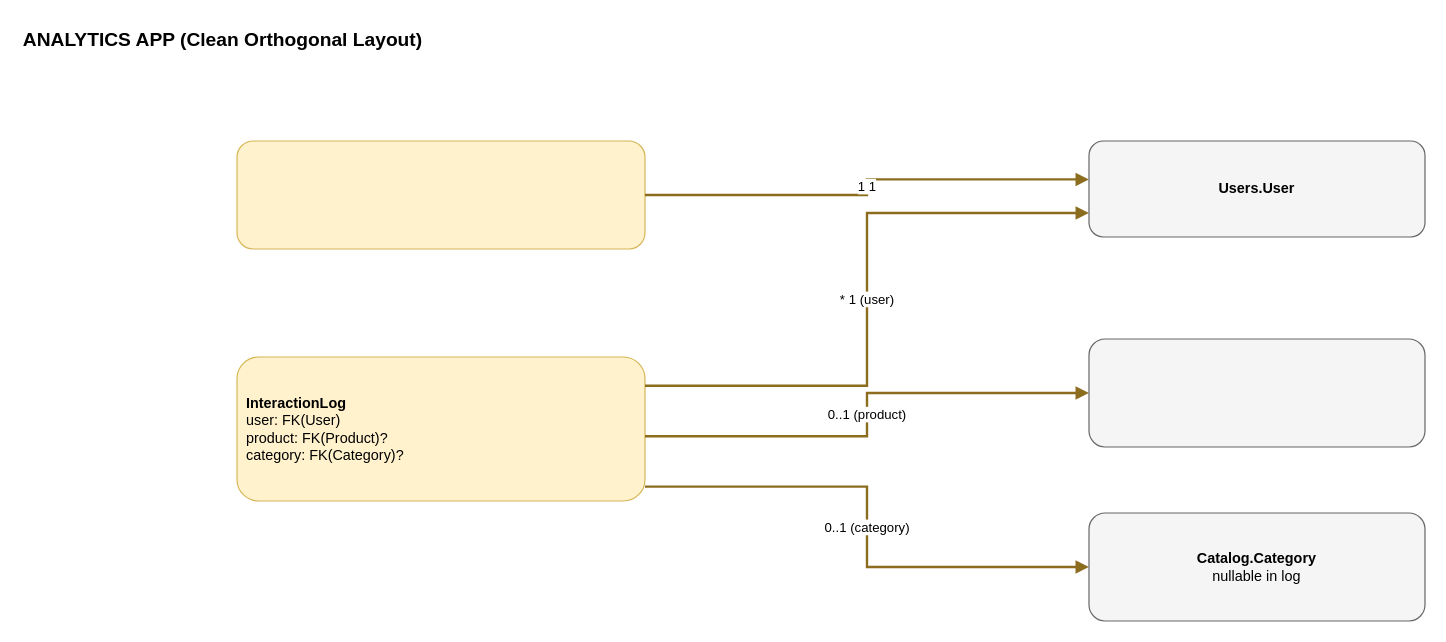
This 1446x642 diagram has some shape labels left out. Here are the shapes that lost their labels. From the top down, the centre of each, then its label:
the point at 440,194: UserInterestProfile user: OneToOne(User)
the point at 1256,392: Catalog.Product nullable in log
